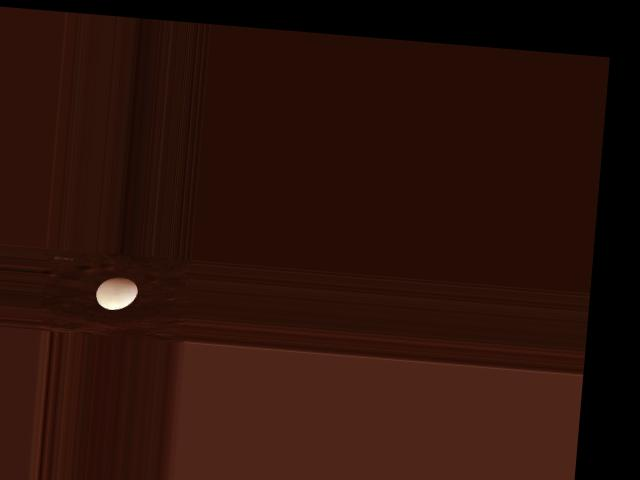egg: (95, 275, 139, 311)
